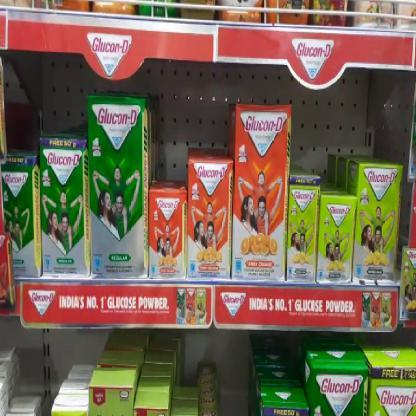Glucon D Nimbu Pani 1-KG: (356, 163, 401, 287)
Glucon D Regular 1-KG: (87, 96, 147, 282), (37, 141, 87, 280)
Glucon D Tangy orange 1-KG: (231, 106, 288, 285), (188, 163, 232, 284)
